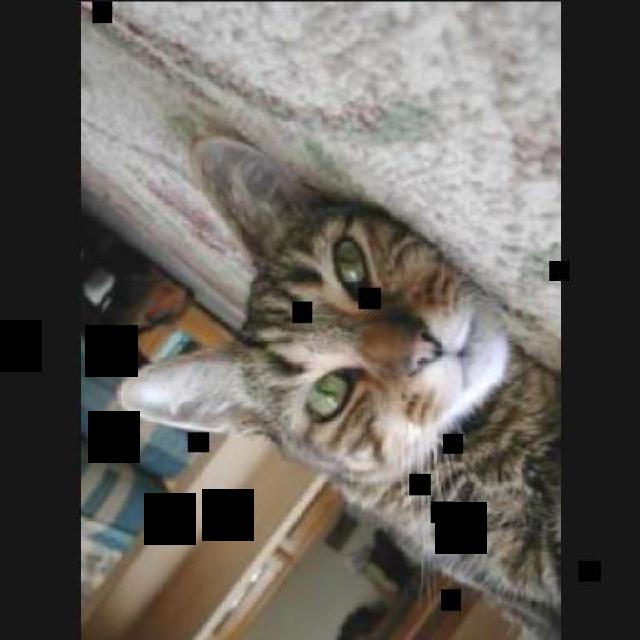unauthorized: (115, 132, 560, 638)
